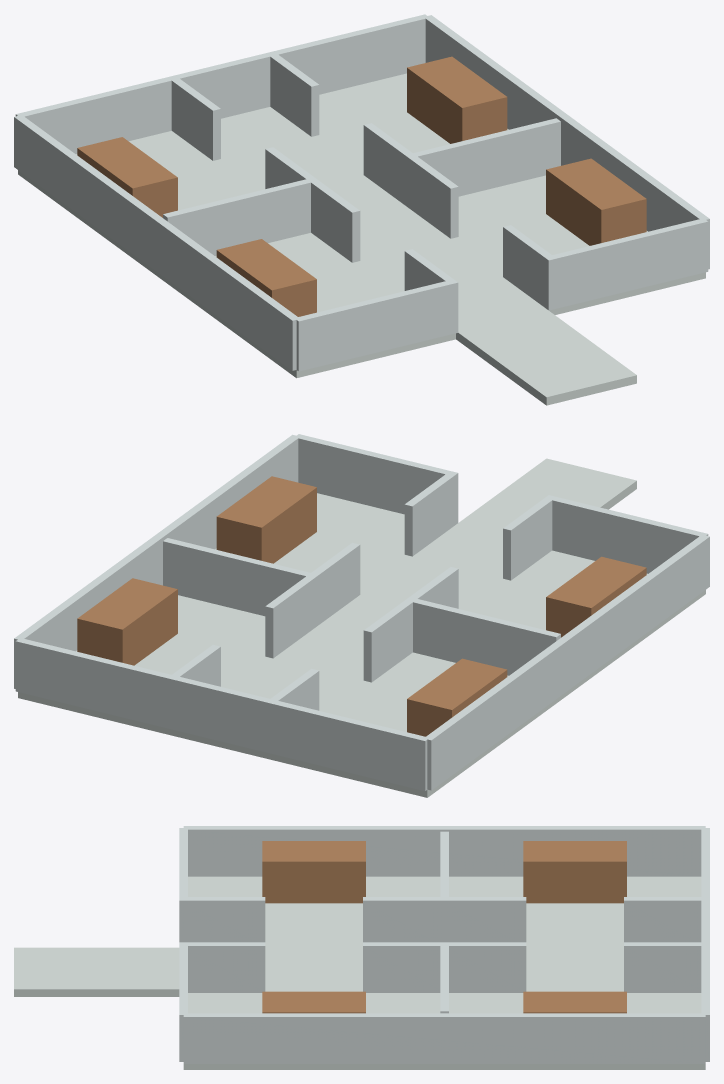
The model's file is publishing-cutaway.glb.
The picture shows the model from 3 angles, top to bottom: view 1: azimuth 30°, elevation 25°; view 2: azimuth 150°, elevation 25°; view 3: azimuth 270°, elevation 25°; orthographic projection. The views are drawn at different scales.
Parts seen in each view (by area): view 1: publishing/floor/cutaway.002, publishing/rear-wall/cutaway.002, publishing/outer--1/cutaway.002, publishing/portal-floor-0/cutaway.002, publishing/outer-1/cutaway.002, publishing/entry-jamb-1/cutaway.002, publishing/entry-jamb--1/cutaway.002, publishing/room-divider-1/cutaway.002, publishing/room-divider--1/cutaway.002, publishing/desk-1/cutaway.002, publishing/desk-3/cutaway.002, publishing/desk-2/cutaway.002 (+9 smaller); view 2: publishing/floor/cutaway.002, publishing/rear-wall/cutaway.002, publishing/outer--1/cutaway.002, publishing/outer-1/cutaway.002, publishing/entry-jamb-1/cutaway.002, publishing/entry-jamb--1/cutaway.002, publishing/room-divider-1/cutaway.002, publishing/room-divider--1/cutaway.002, publishing/desk-3/cutaway.002, publishing/desk-1/cutaway.002, publishing/portal-floor-0/cutaway.002, publishing/desk-0/cutaway.002 (+9 smaller); view 3: publishing/floor/cutaway.002, publishing/outer-1/cutaway.002, publishing/outer--1/cutaway.002, publishing/portal-floor-0/cutaway.002, publishing/desk-0/cutaway.002, publishing/desk-2/cutaway.002, publishing/corridor-1-1-b/cutaway.002, publishing/corridor-1--1-b/cutaway.002, publishing/corridor-1-1-a/cutaway.002, publishing/corridor-1--1-a/cutaway.002, publishing/corridor--1-1-b/cutaway.002, publishing/corridor--1--1-b/cutaway.002 (+9 smaller).
Part boxes in pixels (box(x1,y1,x2,y2)): publishing/floor/cutaway.002: box(18, 73, 705, 378); publishing/rear-wall/cutaway.002: box(15, 14, 428, 153); publishing/outer--1/cutaway.002: box(14, 115, 297, 370); publishing/portal-floor-0/cutaway.002: box(456, 309, 636, 405); publishing/outer-1/cutaway.002: box(424, 15, 709, 269); publishing/entry-jamb-1/cutaway.002: box(544, 219, 708, 310); publishing/entry-jamb--1/cutaway.002: box(294, 279, 458, 371); publishing/room-divider-1/cutaway.002: box(413, 118, 560, 196); publishing/room-divider--1/cutaway.002: box(163, 179, 310, 255); publishing/desk-1/cutaway.002: box(546, 158, 646, 245); publishing/desk-3/cutaway.002: box(407, 56, 507, 143); publishing/desk-2/cutaway.002: box(77, 137, 177, 217); publishing/floor/cutaway.002: box(18, 493, 705, 797); publishing/rear-wall/cutaway.002: box(15, 639, 427, 790); publishing/outer--1/cutaway.002: box(424, 535, 709, 790); publishing/outer-1/cutaway.002: box(14, 434, 298, 688); publishing/entry-jamb-1/cutaway.002: box(294, 434, 458, 525); publishing/entry-jamb--1/cutaway.002: box(544, 495, 708, 573); publishing/room-divider-1/cutaway.002: box(163, 538, 310, 616); publishing/room-divider--1/cutaway.002: box(413, 599, 560, 675); publishing/desk-3/cutaway.002: box(77, 578, 177, 665); publishing/desk-1/cutaway.002: box(216, 476, 316, 563); publishing/portal-floor-0/cutaway.002: box(456, 458, 636, 535); publishing/desk-0/cutaway.002: box(546, 556, 646, 637); publishing/floor/cutaway.002: box(183, 876, 705, 1069); publishing/outer-1/cutaway.002: box(183, 1013, 705, 1063); publishing/outer--1/cutaway.002: box(183, 826, 705, 876); publishing/portal-floor-0/cutaway.002: box(14, 947, 179, 996); publishing/desk-0/cutaway.002: box(262, 841, 365, 903); publishing/desk-2/cutaway.002: box(523, 841, 626, 903); publishing/corridor-1-1-b/cutaway.002: box(183, 942, 265, 992); publishing/corridor-1--1-b/cutaway.002: box(444, 942, 526, 992); publishing/corridor-1-1-a/cutaway.002: box(363, 942, 444, 992); publishing/corridor-1--1-a/cutaway.002: box(624, 942, 705, 992); publishing/corridor--1-1-b/cutaway.002: box(183, 897, 265, 942); publishing/corridor--1--1-b/cutaway.002: box(444, 897, 526, 942).
Size of the model in its own units: 7.84 by 1.05 by 12.08.
